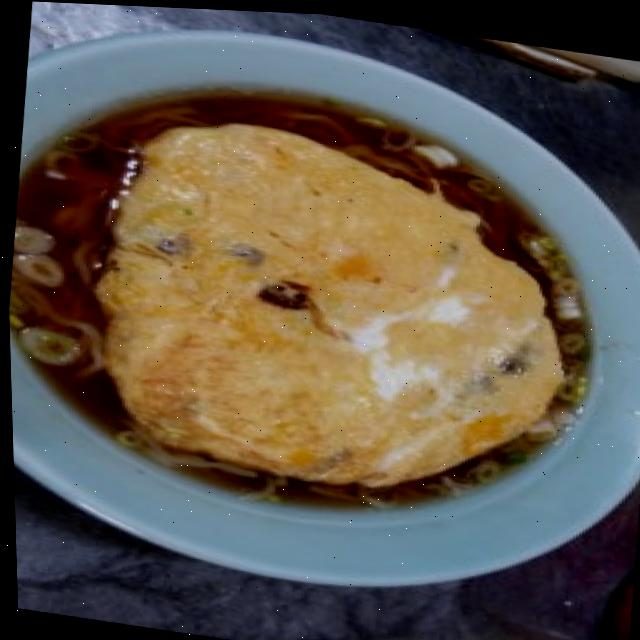面条主食: (1, 40, 621, 548)
